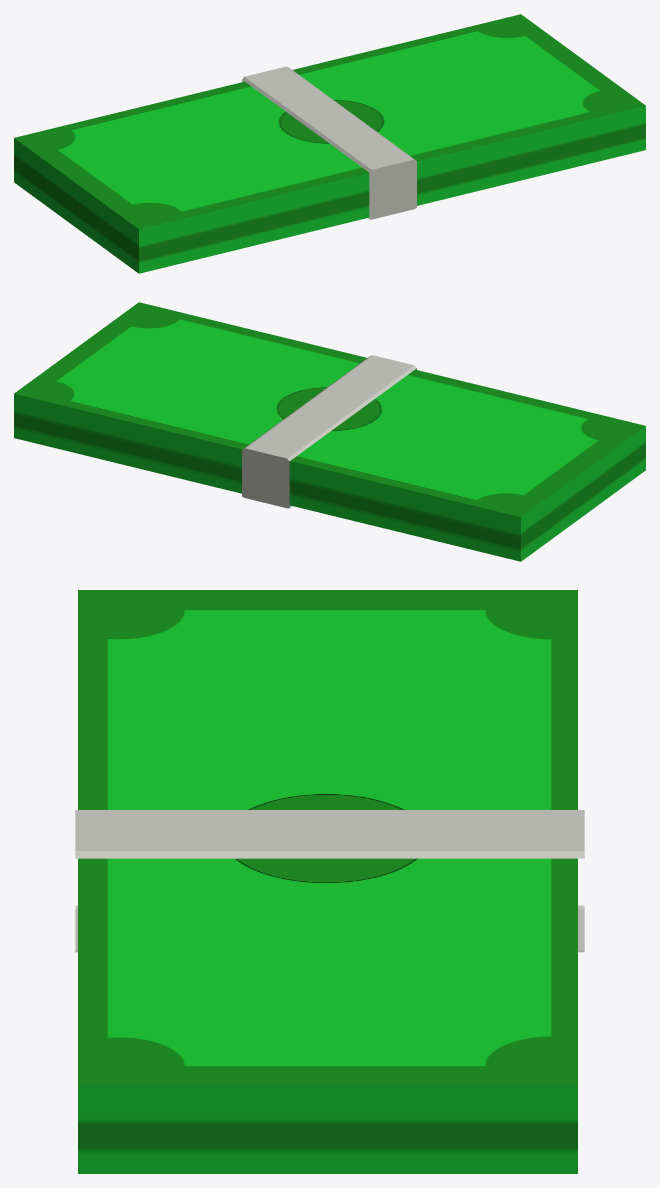
The model's file is Money.fbx.
3 views of the same model, one above another, from view 1: azimuth 30°, elevation 25°; view 2: azimuth 150°, elevation 25°; view 3: azimuth 270°, elevation 25° (orthographic). The views are drawn at different scales.
Parts seen in each view (by area): view 1: Plane.001; view 2: Plane.001; view 3: Plane.001.
Boxes of the visible parts, x1,y1,x2,y2 form: Plane.001: (14,14,645,273); Plane.001: (14,302,645,561); Plane.001: (75,590,584,1173).
Size of the model in its own units: 37.38 by 3.5 by 16.27.
